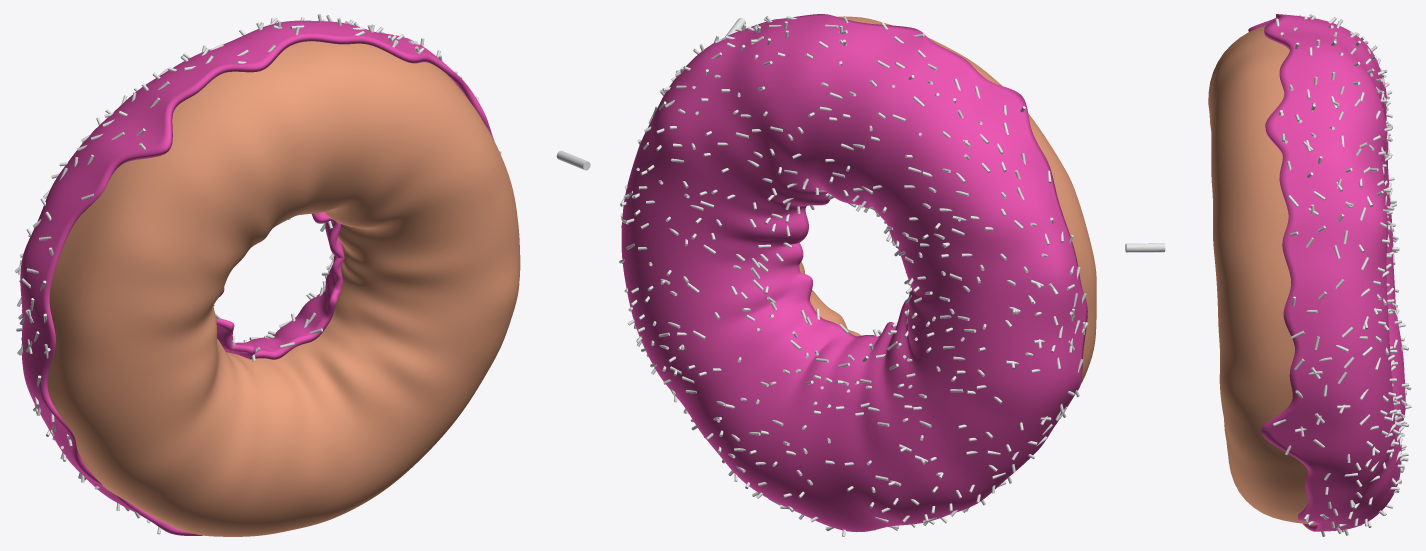
The picture shows the model from 3 angles, left to right: view 1: azimuth 30°, elevation 25°; view 2: azimuth 150°, elevation 25°; view 3: azimuth 270°, elevation 25°; orthographic projection. The views are drawn at different scales.
Visible parts, largest first — view 1: donut body, frosting; view 2: frosting, donut body; view 3: frosting, donut body, Cylinder.001.
Boxes of the visible parts, x1=… form: donut body: x1=47, y1=41, x2=520, y2=536; frosting: x1=20, y1=20, x2=494, y2=535; frosting: x1=621, y1=14, x2=1087, y2=531; donut body: x1=799, y1=16, x2=1096, y2=425; frosting: x1=1248, y1=14, x2=1405, y2=531; donut body: x1=1208, y1=25, x2=1316, y2=524; Cylinder.001: x1=1125, y1=243, x2=1165, y2=252.
Bounding box in the file's own units: 253 × 263 × 142.
